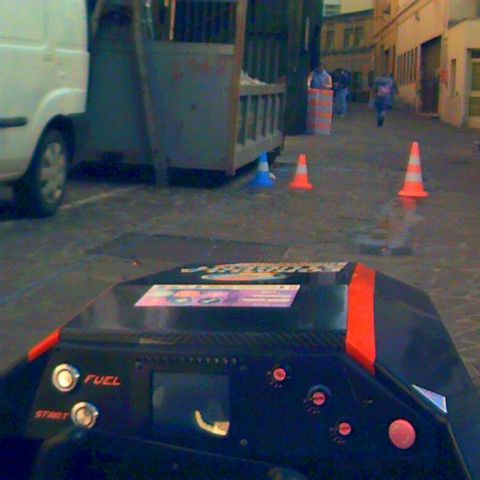cone: (249, 153, 274, 185)
